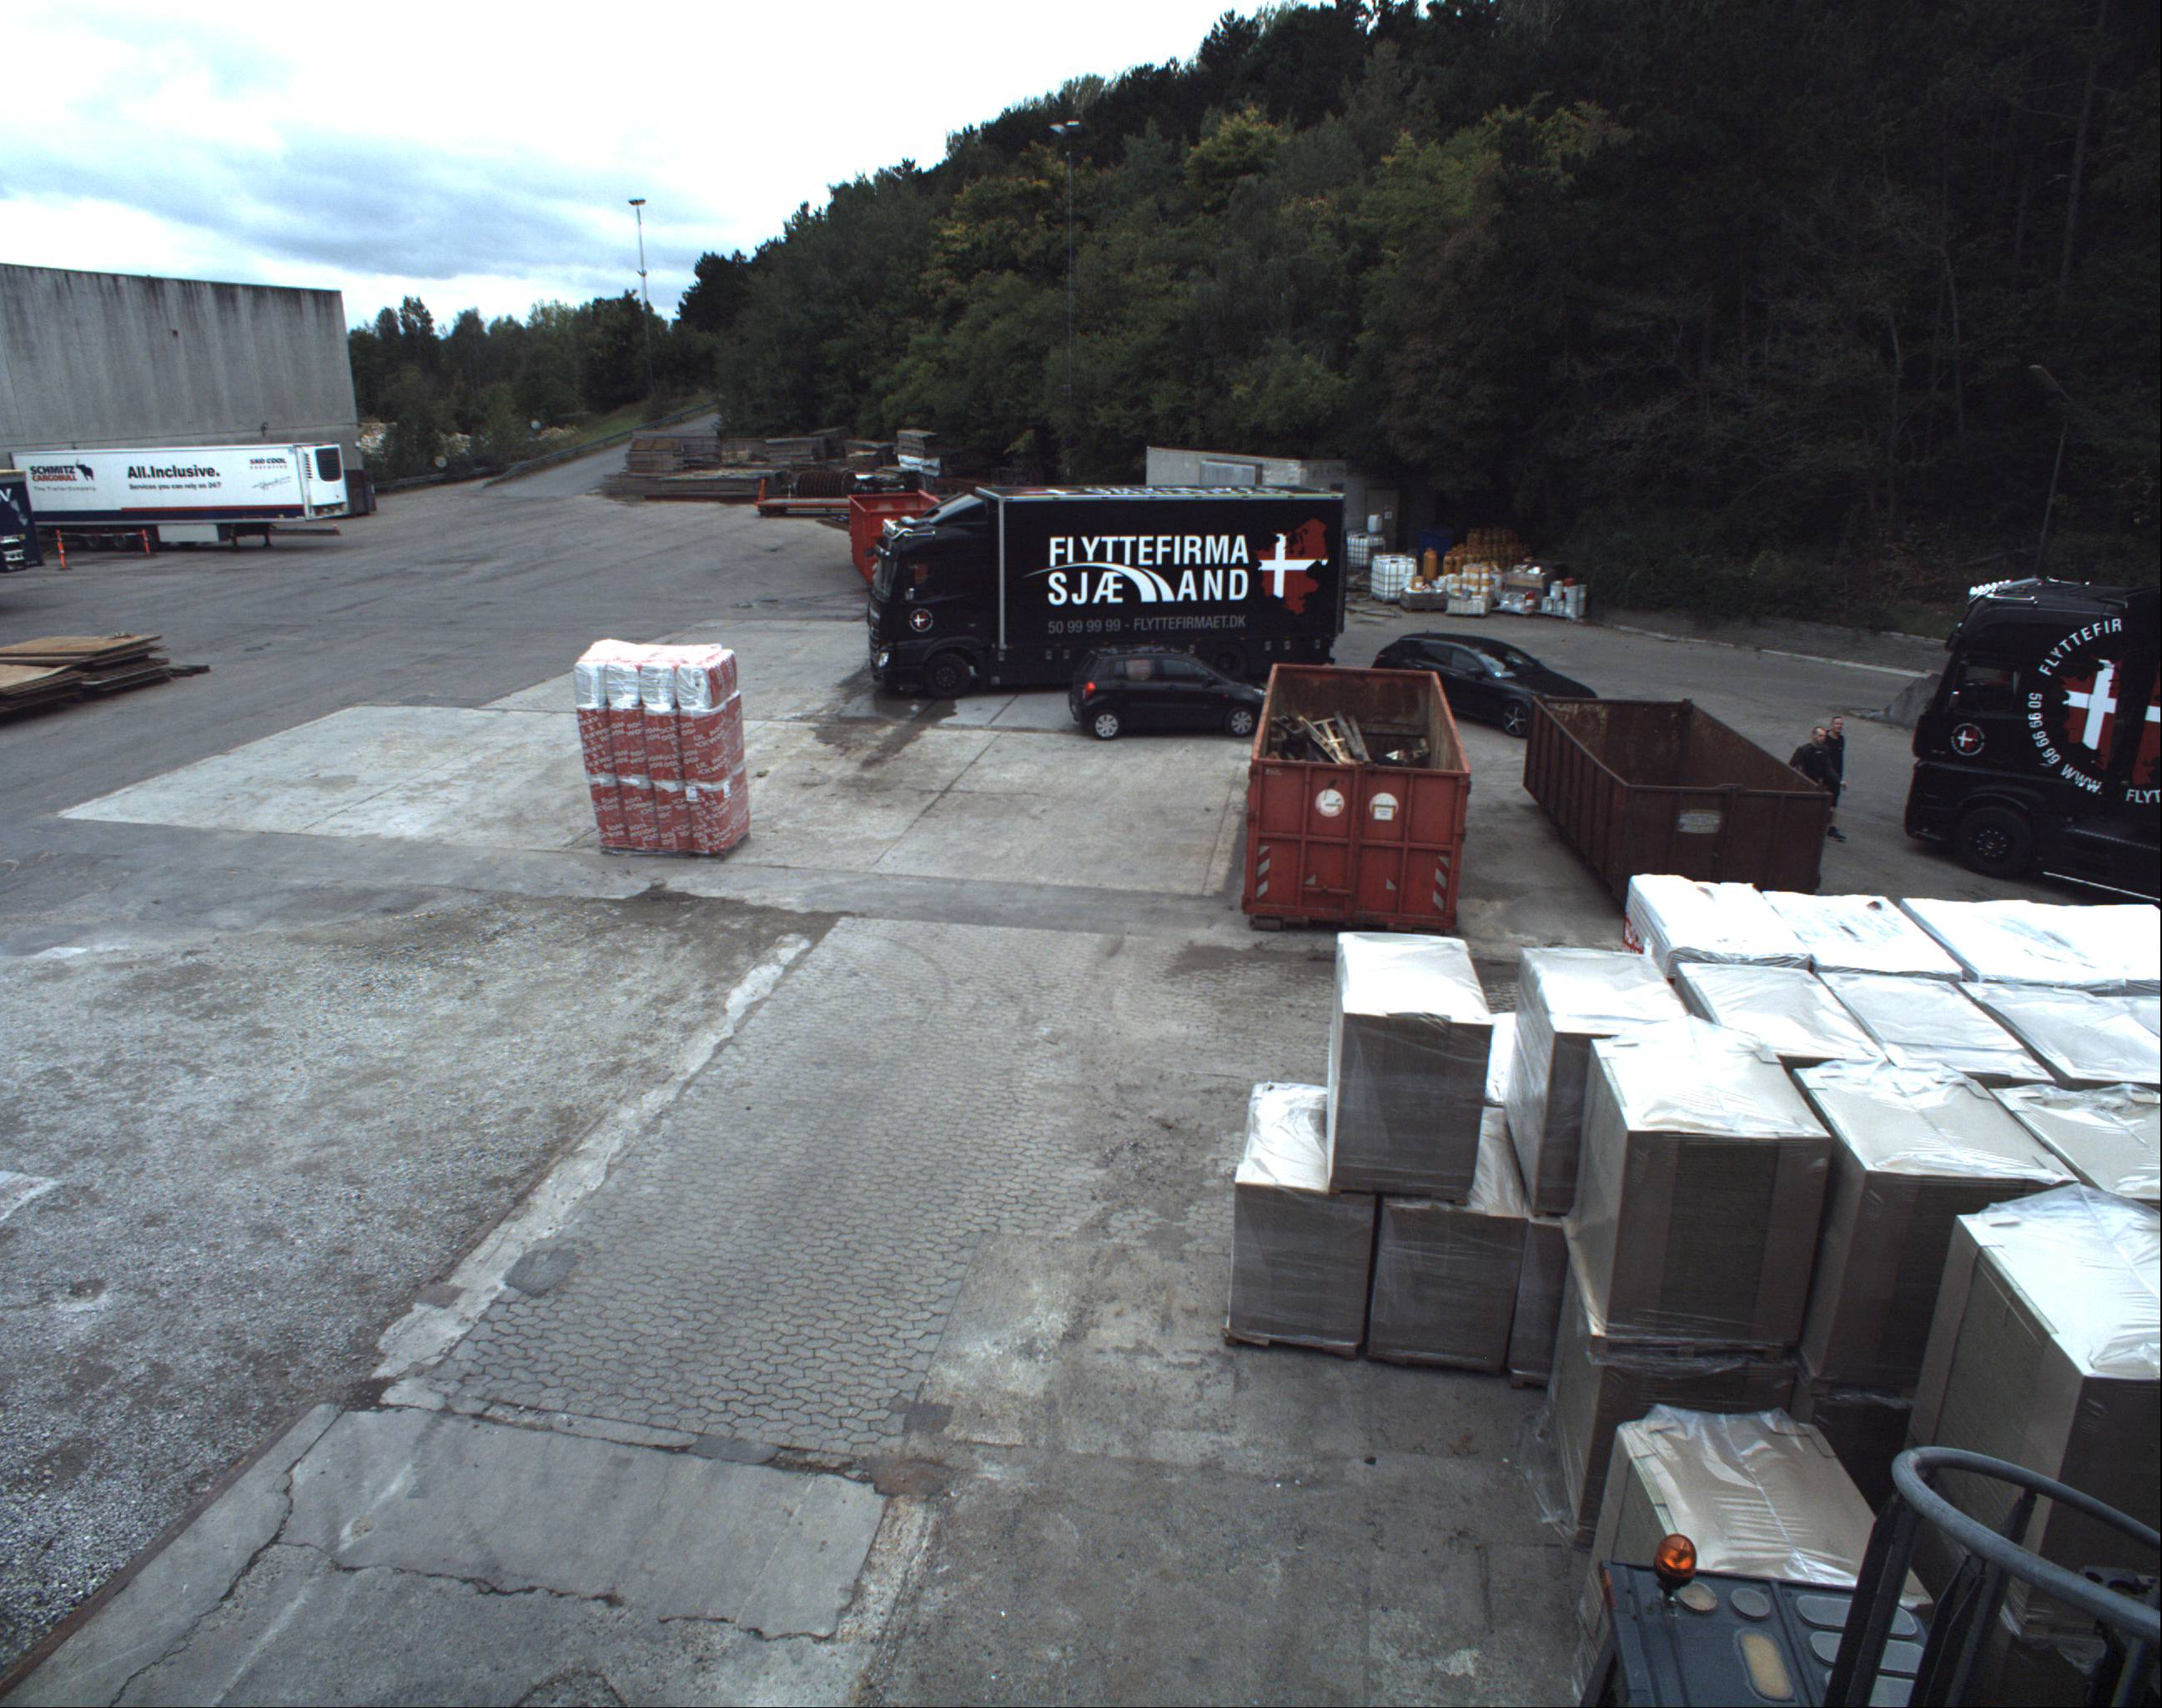rockwool_batts: (572, 637, 756, 848)
